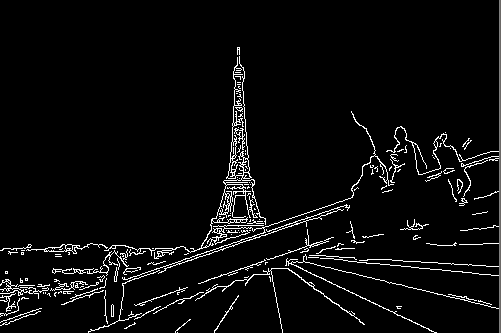eiffel tower: (181, 33, 282, 254)
